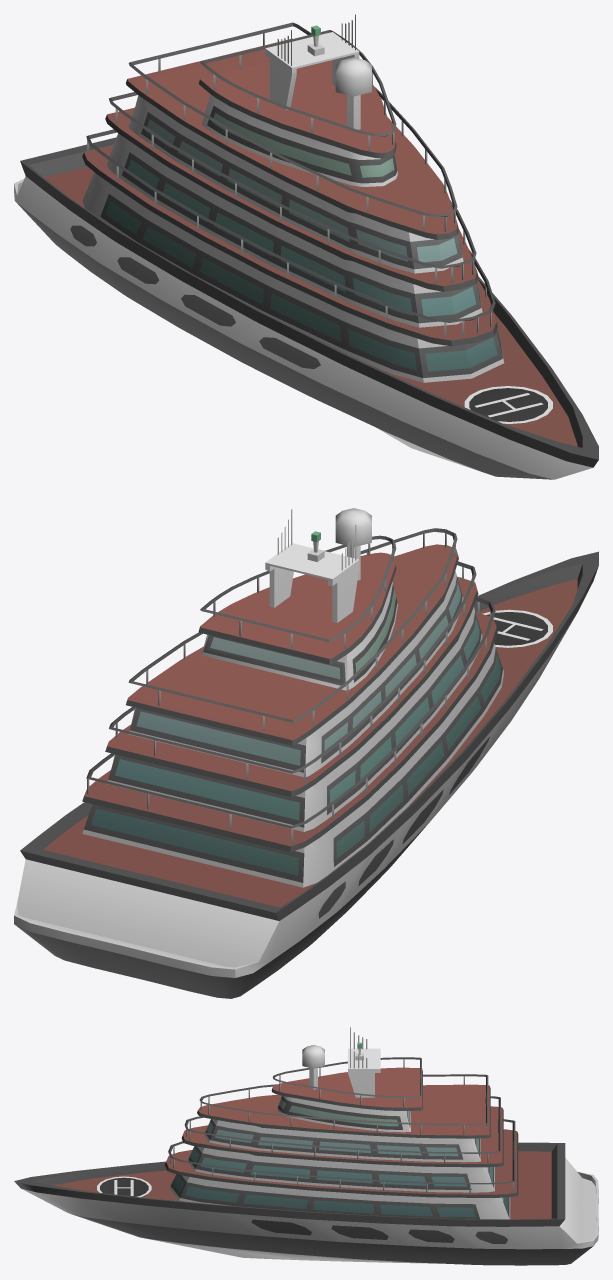
File: Yacht_Big_B.fbx
3 views of the same model, one above another, from view 1: azimuth 30°, elevation 25°; view 2: azimuth 150°, elevation 25°; view 3: azimuth 270°, elevation 25° (orthographic). The views are drawn at different scales.
Visible parts, largest first — view 1: Yacht_Big_B; view 2: Yacht_Big_B; view 3: Yacht_Big_B.
Part boxes in pixels (x1=…): Yacht_Big_B: x1=14, y1=14, x2=598, y2=479; Yacht_Big_B: x1=14, y1=508, x2=598, y2=998; Yacht_Big_B: x1=14, y1=1027, x2=598, y2=1265.
Bounding box in the file's own units: 1605 × 2132 × 5120.
